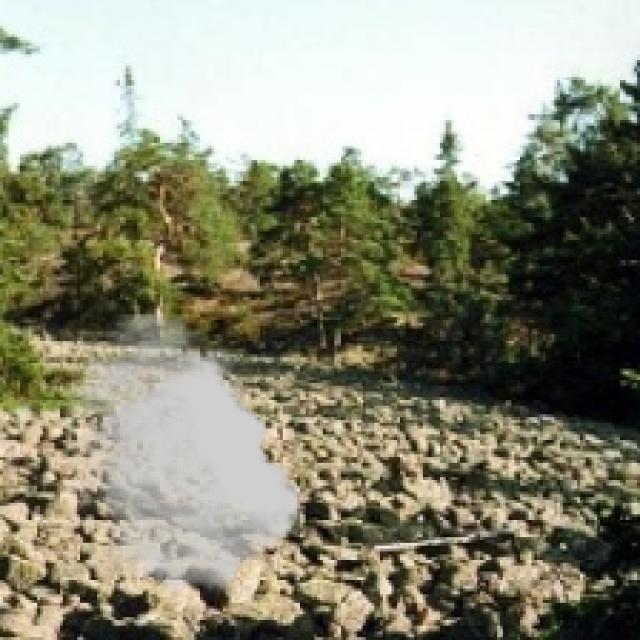smoke: (66, 314, 300, 594)
